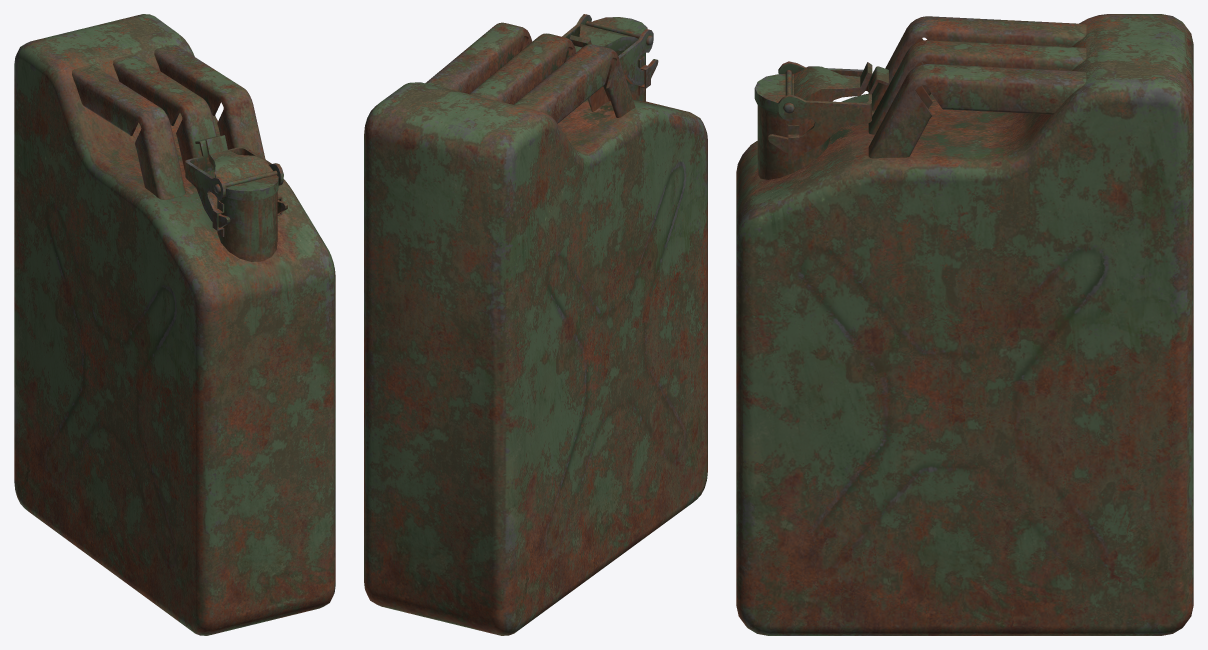
Rendered from fuel_canister.glb.
3 views of the same model, side by side, from view 1: azimuth 30°, elevation 25°; view 2: azimuth 150°, elevation 25°; view 3: azimuth 270°, elevation 25° (orthographic). The views are drawn at different scales.
Parts seen in each view (by area): view 1: Fuel_tank; view 2: Fuel_tank; view 3: Fuel_tank.
Boxes of the visible parts, bbox=[...] form: Fuel_tank: bbox=[14, 14, 335, 635]; Fuel_tank: bbox=[364, 14, 707, 635]; Fuel_tank: bbox=[736, 14, 1193, 635].
Bounding box in the file's own units: 0.2163 × 0.7034 × 0.524.
Materials: 1 (1 with a texture image).
